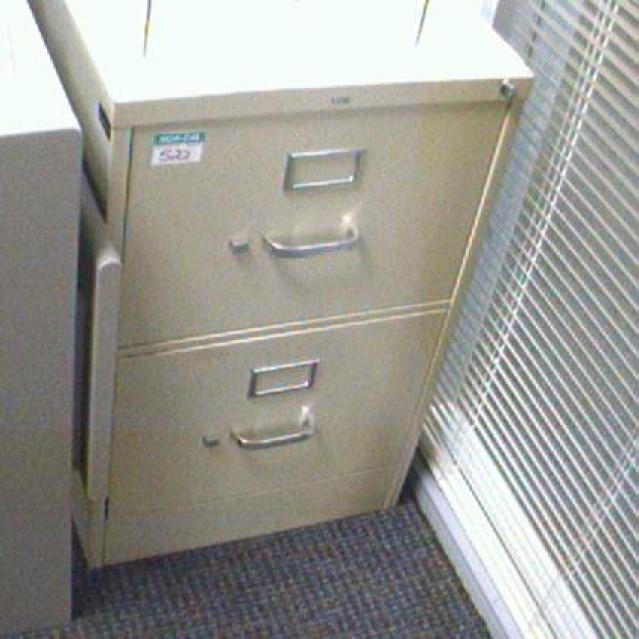Filing Cabinet: (84, 75, 536, 570)
